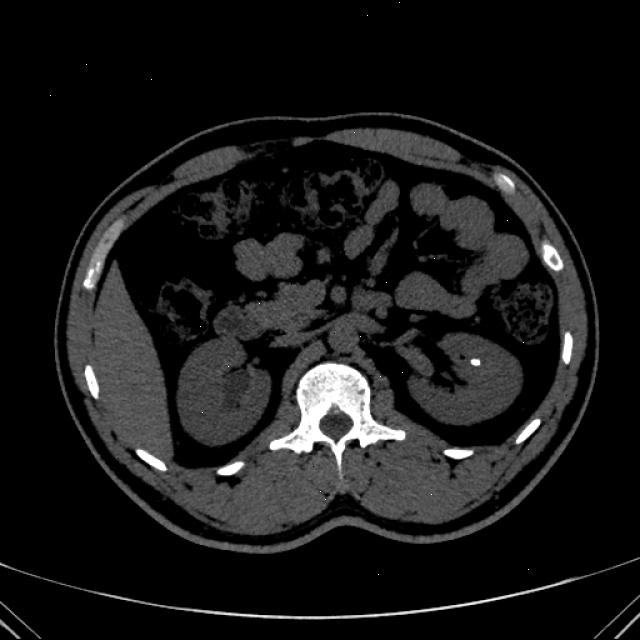kidneystone: (470, 359, 480, 366)
